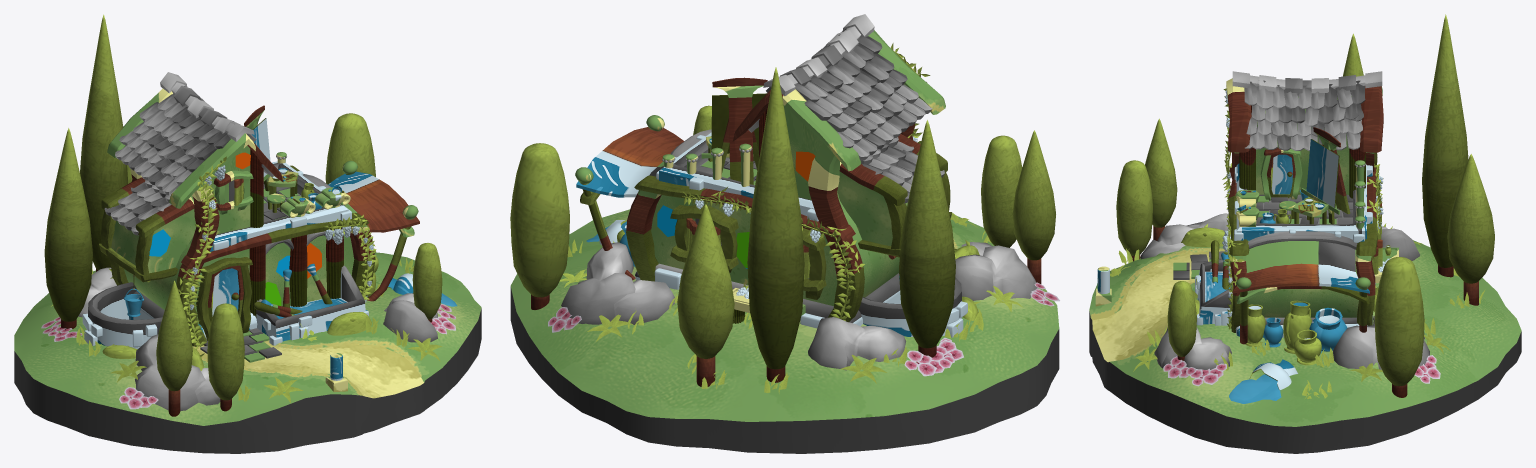
3 views of the same model, side by side, from view 1: azimuth 30°, elevation 25°; view 2: azimuth 150°, elevation 25°; view 3: azimuth 270°, elevation 25° (orthographic). The views are drawn at different scales.
Parts seen in each view (by area): view 1: Diorama_01_GEO; view 2: Diorama_01_GEO; view 3: Diorama_01_GEO.
Boxes of the visible parts, <box> form: Diorama_01_GEO: <box>14,14,481,453</box>; Diorama_01_GEO: <box>510,14,1059,453</box>; Diorama_01_GEO: <box>1089,14,1521,453</box>.
Bounding box in the file's own units: 11.24 × 7.75 × 9.97.
2 materials, 2 textured.
